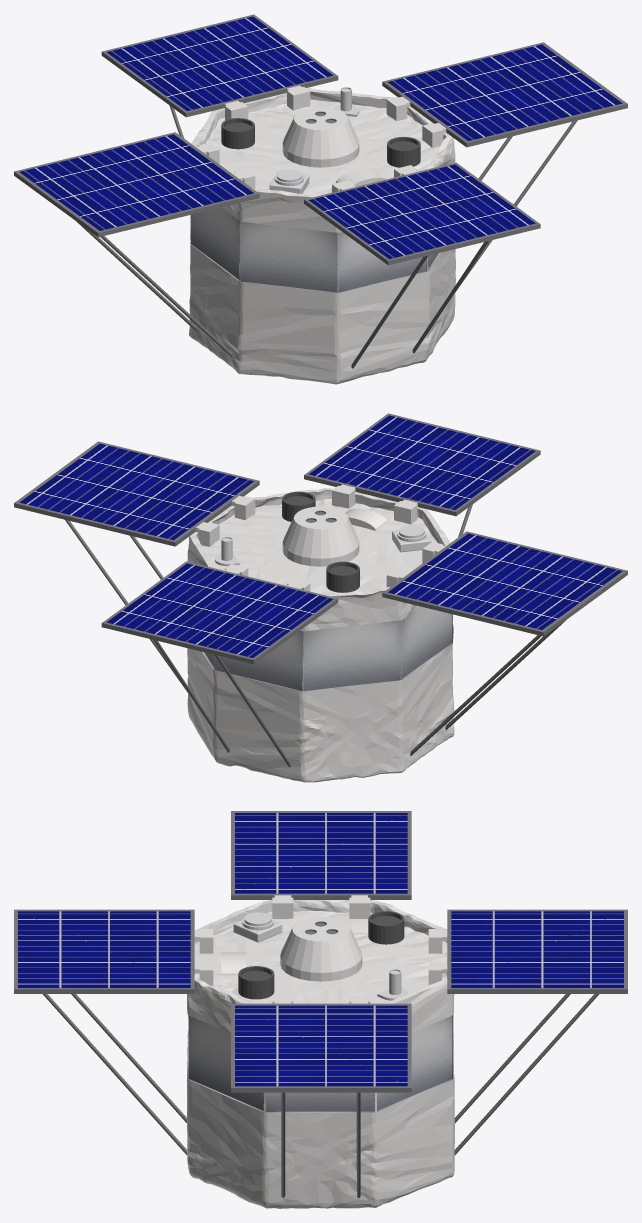
3 renders of one model, top to bottom at view 1: azimuth 30°, elevation 25°; view 2: azimuth 150°, elevation 25°; view 3: azimuth 270°, elevation 25°, orthographic. The views are drawn at different scales.
Size of the model in its own units: 6.82 by 2.6 by 6.39.
Materials: 10 (4 with a texture image).
